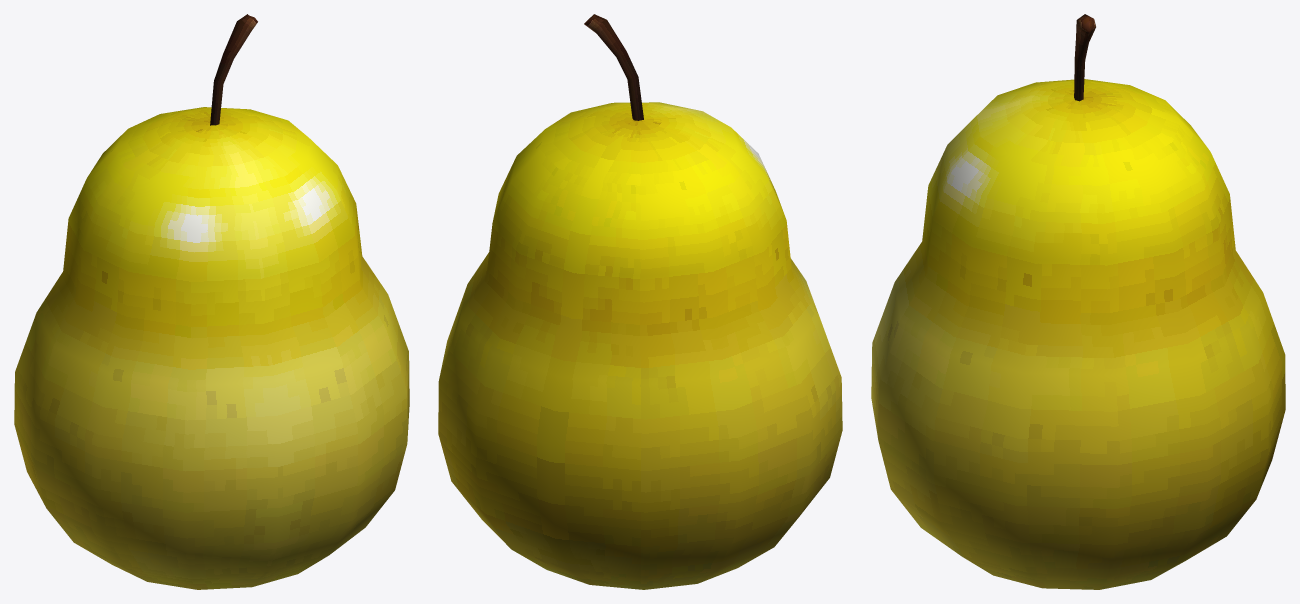
File: peraG.glb
The picture shows the model from 3 angles, left to right: view 1: azimuth 30°, elevation 25°; view 2: azimuth 150°, elevation 25°; view 3: azimuth 270°, elevation 25°; orthographic projection. The views are drawn at different scales.
Parts seen in each view (by area): view 1: Inst3D25_RefRep.212; view 2: Inst3D25_RefRep.212; view 3: Inst3D25_RefRep.212.
Part boxes in pixels (x1=…): Inst3D25_RefRep.212: x1=14, y1=14, x2=409, y2=589; Inst3D25_RefRep.212: x1=438, y1=14, x2=842, y2=589; Inst3D25_RefRep.212: x1=871, y1=14, x2=1285, y2=589.
Size of the model in its own units: 10.6 by 15.6 by 10.4.
1 material, 1 textured.
